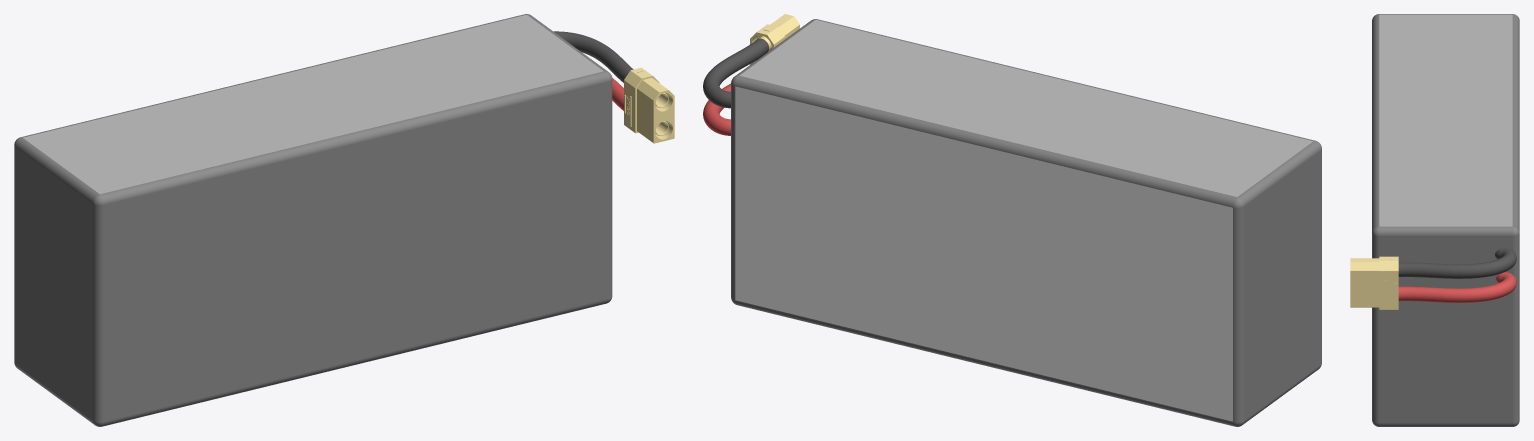
File: Tattu 6s 33000 mah lipo batary.glb
3 views of the same model, side by side, from view 1: azimuth 30°, elevation 25°; view 2: azimuth 150°, elevation 25°; view 3: azimuth 270°, elevation 25° (orthographic). The views are drawn at different scales.
Parts seen in each view (by area): view 1: Node3, Node7, Node1, Node4, Node2; view 2: Node6, Node7, Node3, Node4, Node5, Node1; view 3: Node7, Node3, Node1, Node4, Node5, Node2.
Part boxes in pixels (left/top/right/bottom): Node3: left=14, top=14, right=612, bottom=426; Node7: left=23, top=15, right=603, bottom=194; Node1: left=624, top=67, right=674, bottom=143; Node4: left=554, top=31, right=633, bottom=82; Node2: left=624, top=68, right=672, bottom=139; Node6: left=735, top=86, right=1232, bottom=421; Node7: left=740, top=20, right=1312, bottom=196; Node3: left=731, top=19, right=1321, bottom=426; Node4: left=703, top=38, right=768, bottom=108; Node5: left=703, top=83, right=730, bottom=135; Node1: left=756, top=15, right=799, bottom=51; Node7: left=1379, top=14, right=1512, bottom=226; Node3: left=1372, top=14, right=1519, bottom=426; Node1: left=1350, top=256, right=1398, bottom=309; Node4: left=1398, top=248, right=1516, bottom=278; Node5: left=1398, top=272, right=1516, bottom=302; Node2: left=1350, top=258, right=1398, bottom=309.
Size of the model in its own units: 233 by 91 by 70.01.
